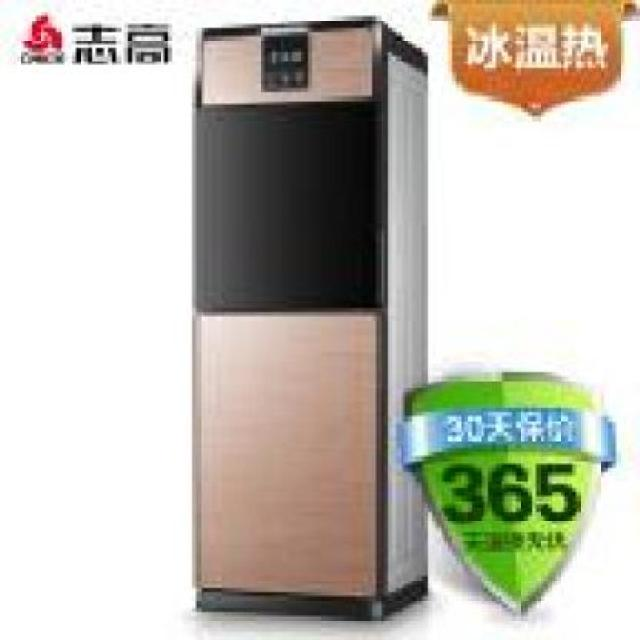cooler: (186, 15, 431, 620)
